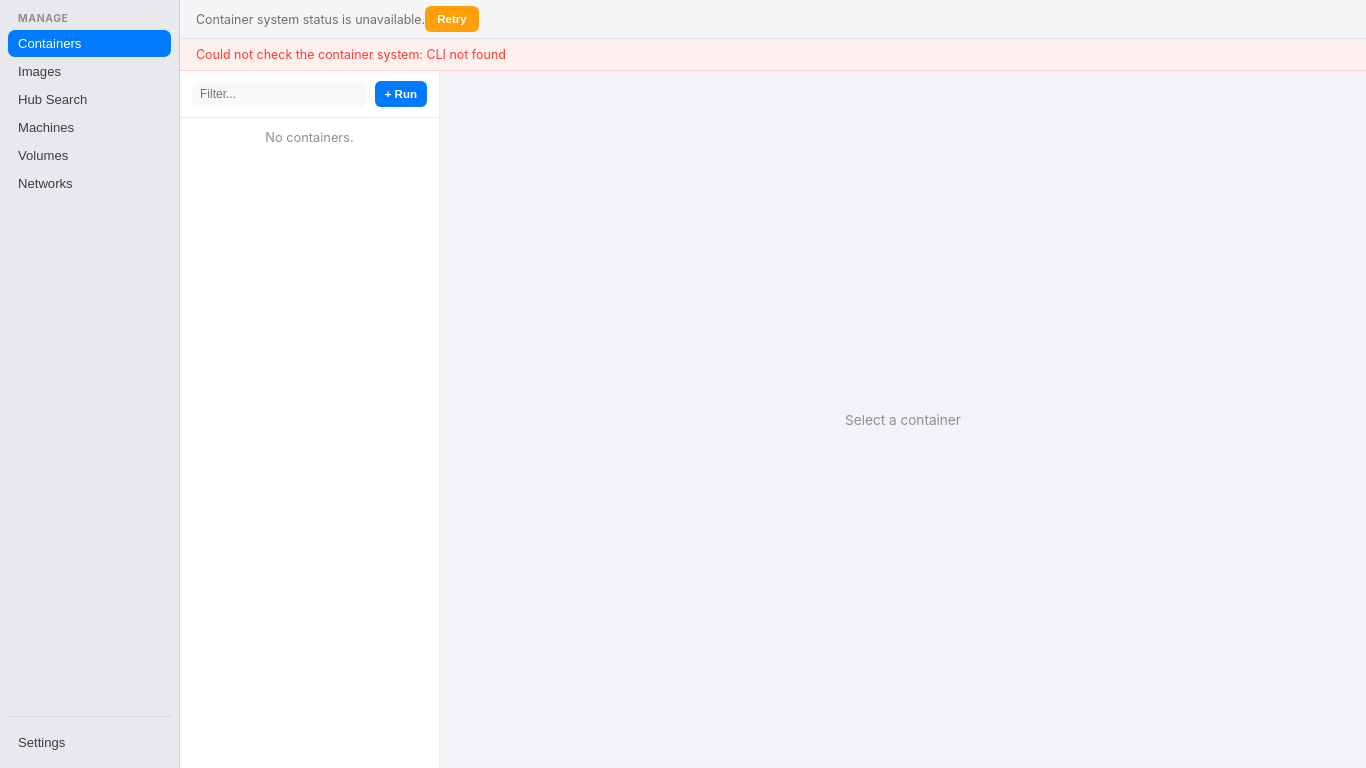
Test case: App system banner › retries a failed status check and clears its error
Click the button "Retry". click: (452, 19)
box: [425,6,479,32]
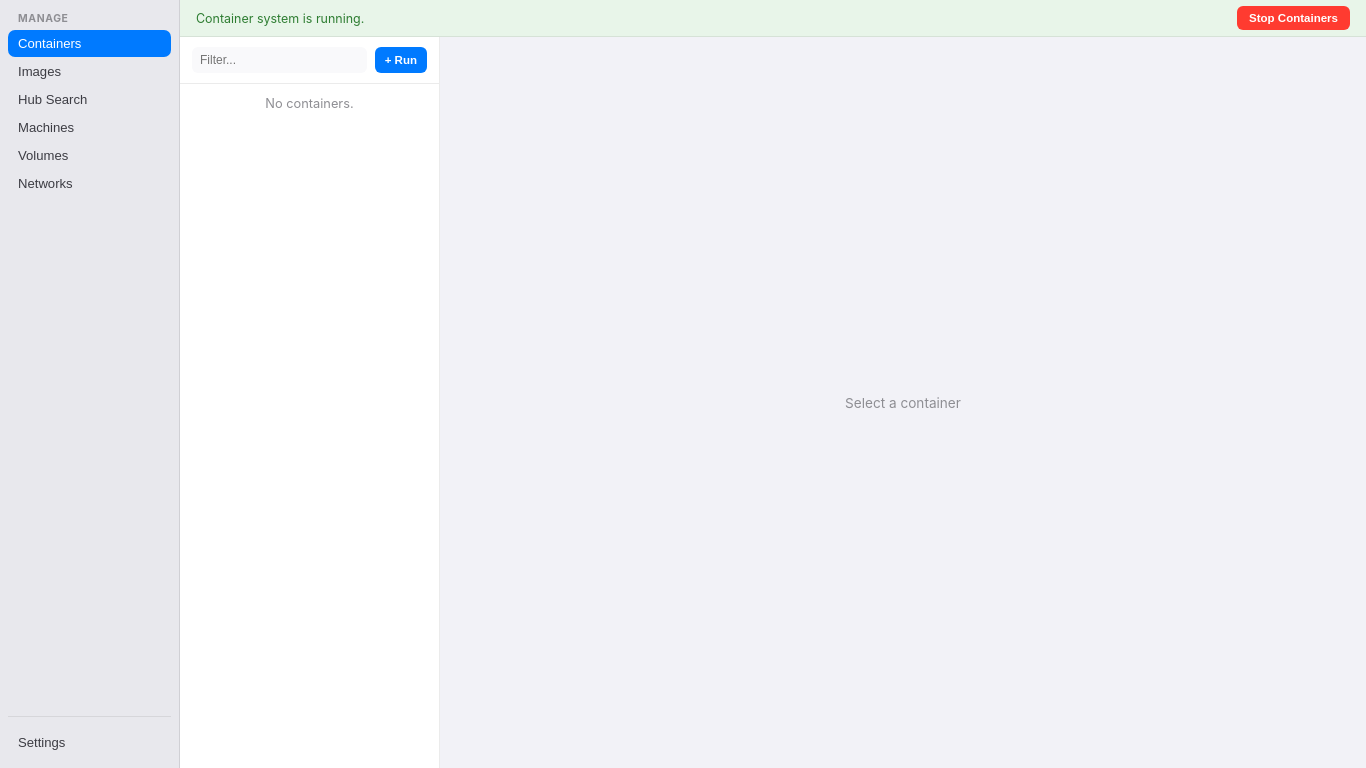
Result: the text "Container system is running." is shown at [196,10,364,26]
Result: the message "Could not check the container system: CLI not found" is gone
